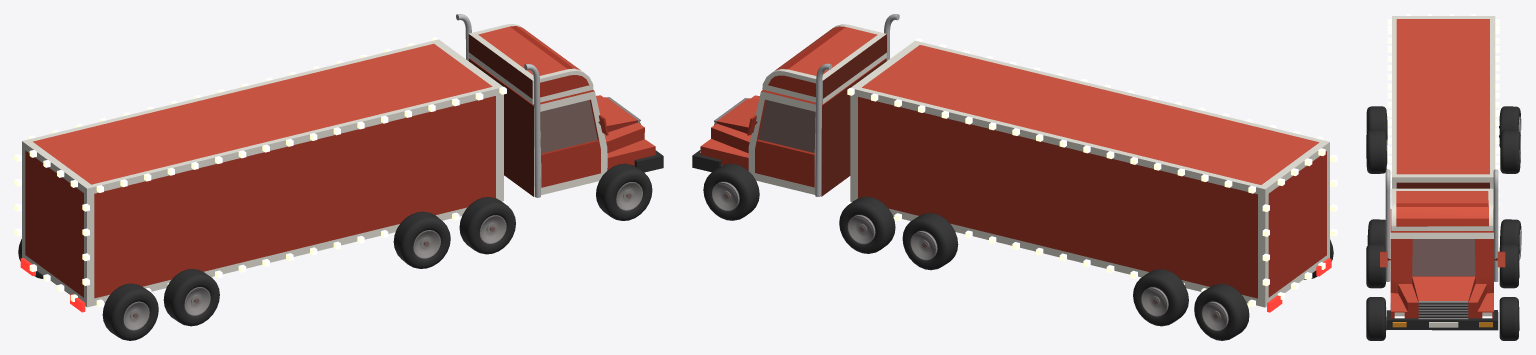
Rendered from fizz.glb.
3 renders of one model, left to right at view 1: azimuth 30°, elevation 25°; view 2: azimuth 150°, elevation 25°; view 3: azimuth 270°, elevation 25°, orthographic. The views are drawn at different scales.
Visible parts, largest first — view 1: body, wheel_RR2, wheel_RR, wheel_FR, wheel_RR3, wheel_RR4; view 2: body, wheel_RL, wheel_FL, wheel_RL3, wheel_RL2, wheel_RL4; view 3: body, wheel_RR3, wheel_RL3, wheel_FR, wheel_FL, wheel_RL, wheel_RR, wheel_RL2, wheel_RL4, wheel_RR4, wheel_RR2.
Boxes of the visible parts, x1,y1,x2,y2 form: body: (14, 14, 663, 312); wheel_RR2: (393, 211, 450, 268); wheel_RR: (459, 197, 515, 254); wheel_FR: (596, 163, 652, 220); wheel_RR3: (163, 269, 219, 326); wheel_RR4: (102, 283, 158, 340); body: (692, 14, 1337, 312); wheel_RL: (839, 196, 895, 253); wheel_FL: (703, 163, 759, 220); wheel_RL3: (1133, 269, 1188, 326); wheel_RL2: (902, 213, 958, 270); wheel_RL4: (1194, 283, 1249, 340); body: (1380, 14, 1505, 330); wheel_RR3: (1366, 130, 1387, 173); wheel_RL3: (1500, 130, 1520, 173); wheel_FR: (1366, 297, 1386, 340); wheel_FL: (1499, 297, 1519, 340); wheel_RL: (1499, 244, 1519, 288); wheel_RR: (1366, 244, 1385, 288); wheel_RL2: (1500, 219, 1521, 259); wheel_RL4: (1499, 106, 1521, 147); wheel_RR4: (1366, 106, 1387, 144); wheel_RR2: (1367, 219, 1385, 246).
Bounding box in the file's own units: 11.01 × 3.08 × 3.22.
